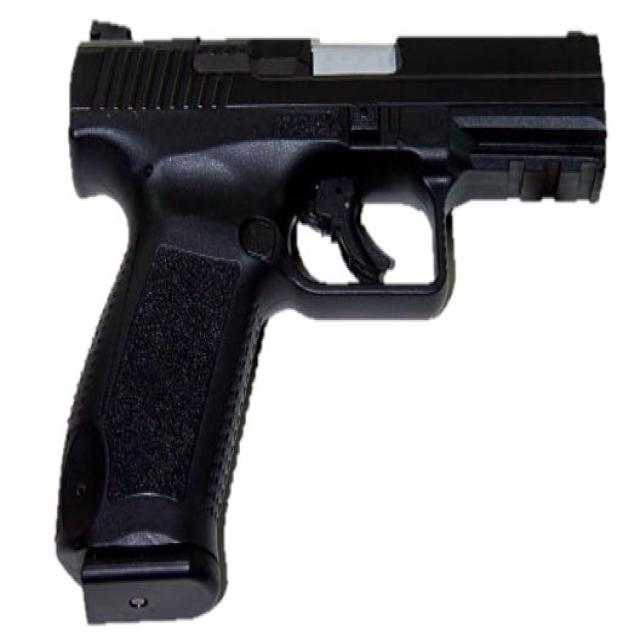pistol: (48, 21, 615, 633)
